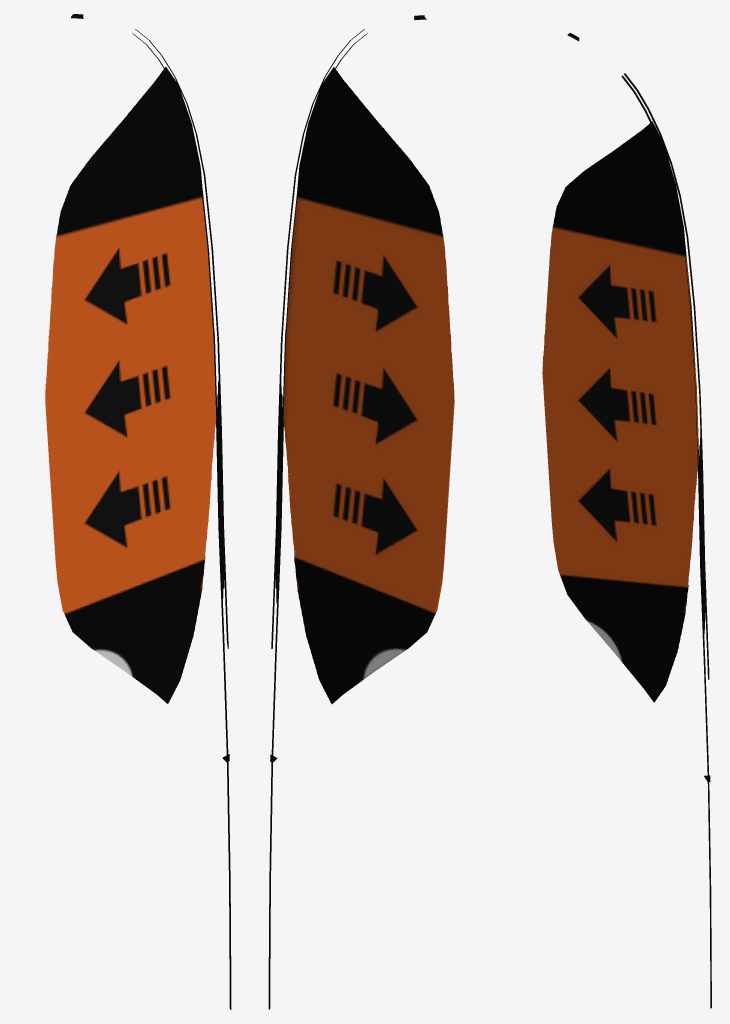
File: defaulttbsflagorange.glb
The picture shows the model from 3 angles, left to right: view 1: azimuth 30°, elevation 25°; view 2: azimuth 150°, elevation 25°; view 3: azimuth 330°, elevation 25°; orthographic projection. The views are drawn at different scales.
Parts seen in each view (by area): view 1: DefaultTBSFlagOrange; view 2: DefaultTBSFlagOrange; view 3: DefaultTBSFlagOrange.
Boxes of the visible parts, bbox=[...] form: DefaultTBSFlagOrange: bbox=[45, 14, 231, 1009]; DefaultTBSFlagOrange: bbox=[268, 15, 454, 1009]; DefaultTBSFlagOrange: bbox=[542, 33, 711, 1008].
Size of the model in its own units: 0.8816 by 3.99 by 0.019.
1 material, 1 textured.
